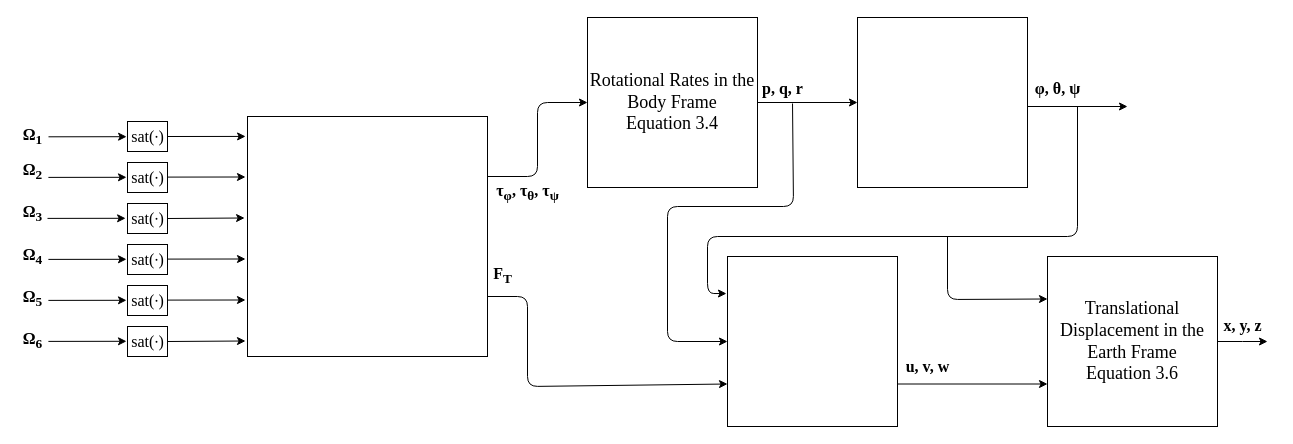
The diagram is 1293 pixels wide and 444 high, and some of its shapes have lost their labels. The shapes that lost their labels are listed below. From the top down, each one's centre as x and y in pixels, then its label:
(x=942, y=102): Euler Angles in the Earth Frame Equation 3.1
(x=367, y=236): Propeller Subsystem Equation 3.9
(x=812, y=341): Translational Velocity in the Body Frame Equation 3.3
